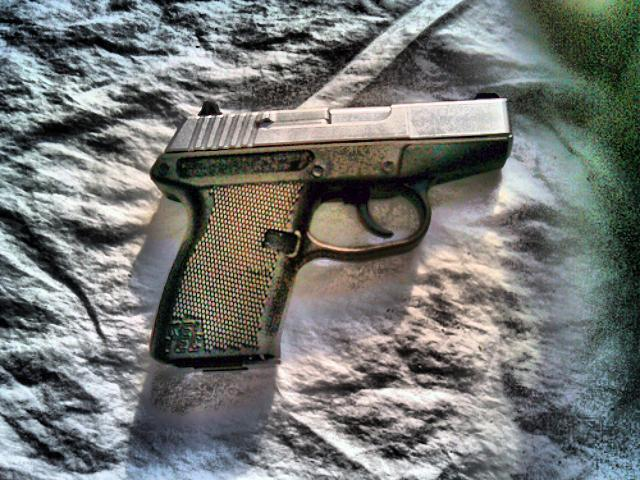pistol: (152, 90, 514, 370)
